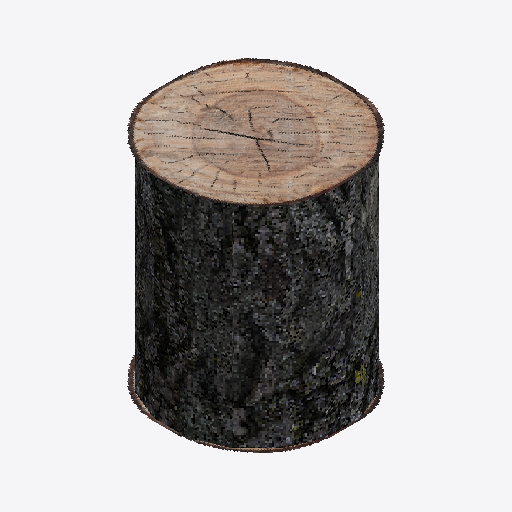
A Minecraft block model of 10 cuboids, rendered isometrically (azimuth 45°, elevation 35.3°) with the resource pack's own textures.
Parts seen in each view (by area): hexadecagon (×7), element 9, element 10.
Boxes of the visible parts, box(x1,y1,x2,y2) form: hexadecagon (×7): box(135, 90, 378, 447); element 9: box(127, 58, 384, 206); element 10: box(127, 355, 384, 452).
Bounding box in the file's own units: 13.65 × 16.07 × 13.65.